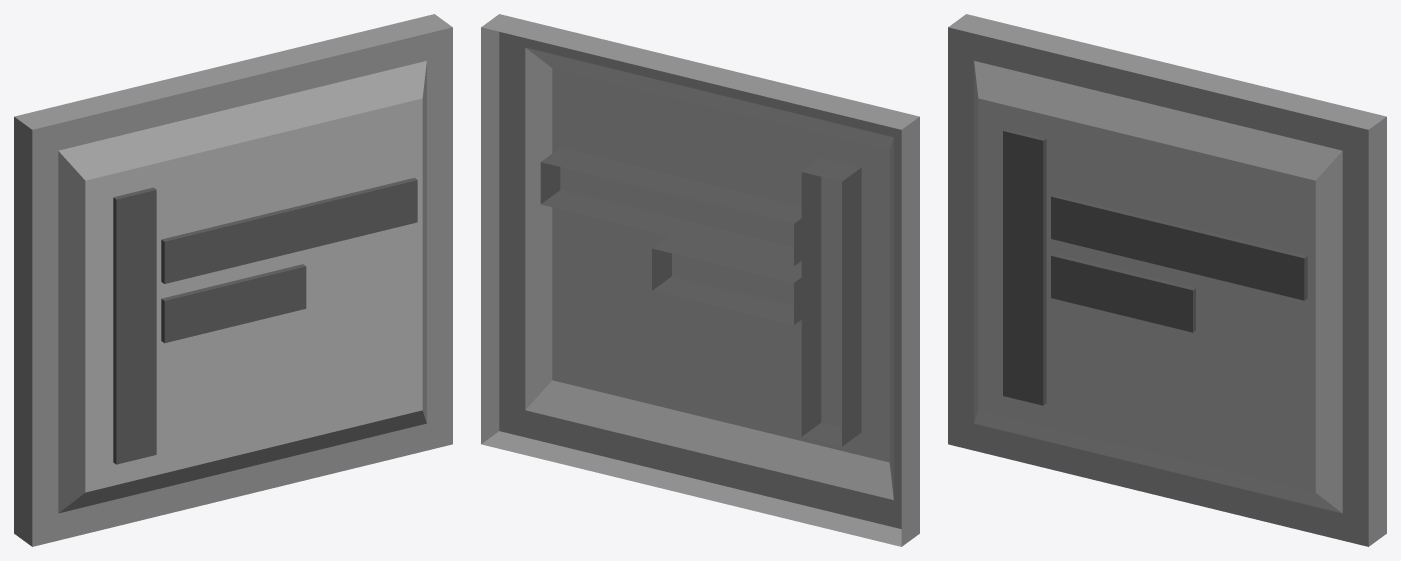
File: panel_B.FBX
3 views of the same model, side by side, from view 1: azimuth 30°, elevation 25°; view 2: azimuth 150°, elevation 25°; view 3: azimuth 330°, elevation 25° (orthographic).
Visible parts, largest first — view 1: panel_B; view 2: panel_B; view 3: panel_B.
Boxes of the visible parts, bbox=[...] form: panel_B: bbox=[14, 14, 452, 546]; panel_B: bbox=[481, 14, 919, 546]; panel_B: bbox=[948, 14, 1386, 546].
Bounding box in the file's own units: 33.61 × 31.86 × 4.54.
